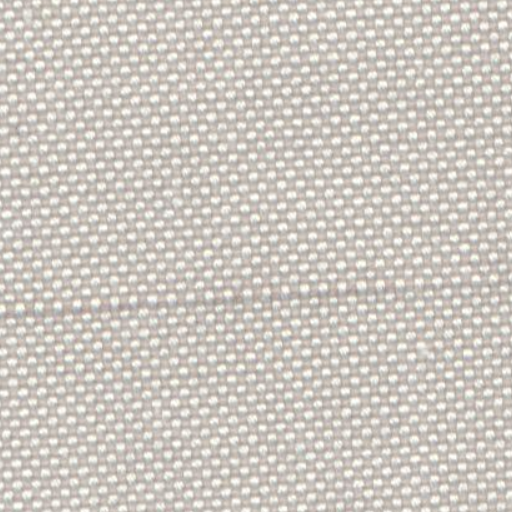TuoSha: (14, 254, 484, 330)
